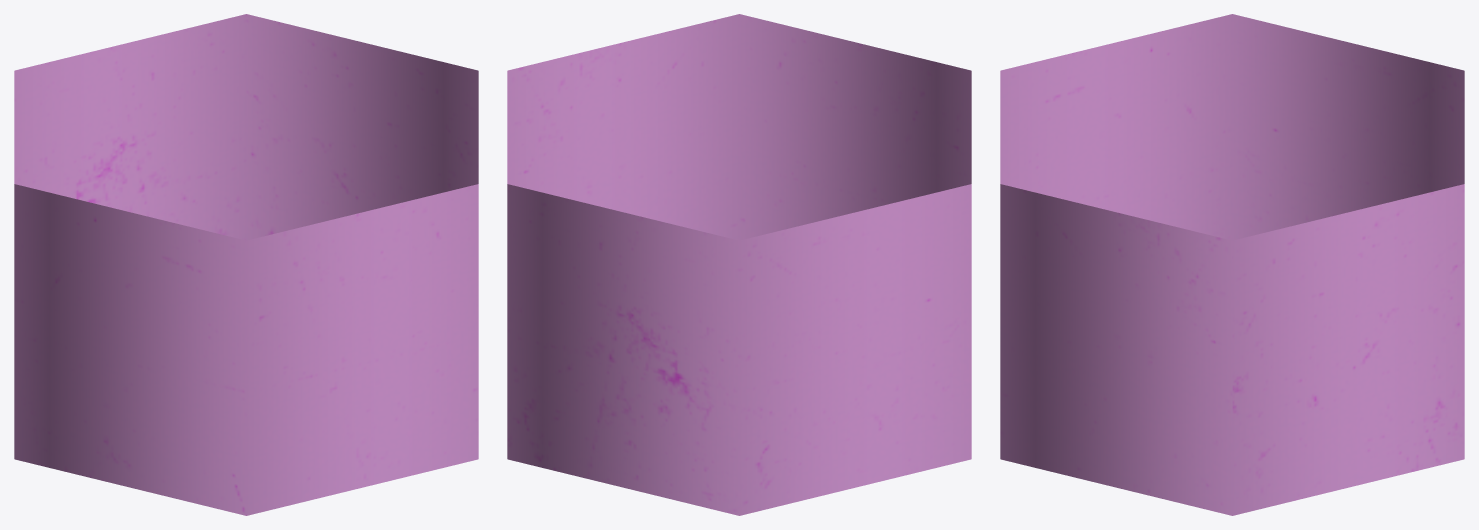
The model's file is PipeLarge_02_SM_Low.fbx.
3 renders of one model, left to right at view 1: azimuth 30°, elevation 25°; view 2: azimuth 150°, elevation 25°; view 3: azimuth 270°, elevation 25°, orthographic.
Parts seen in each view (by area): view 1: Large_Half; view 2: Large_Half; view 3: Large_Half.
Part boxes in pixels (x1,y1,x2,y2): Large_Half: (14,14,478,515); Large_Half: (507,14,971,515); Large_Half: (1000,14,1464,515).
Size of the model in its own units: 177 by 100 by 153.
1 material, 1 textured.
